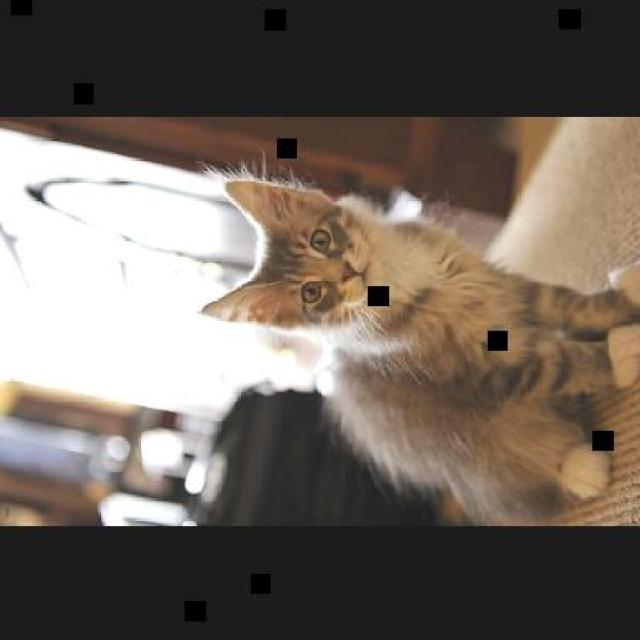unauthorized: (194, 150, 638, 524)
